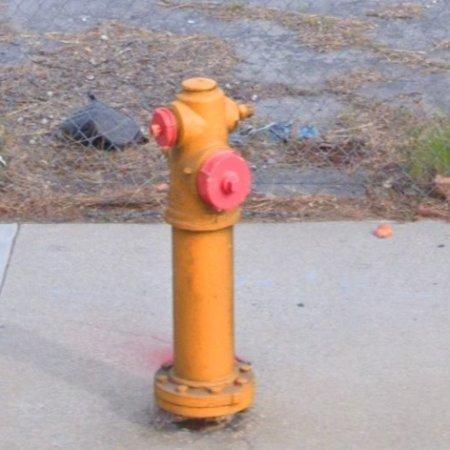a fire hydrant: (151, 77, 255, 419)
